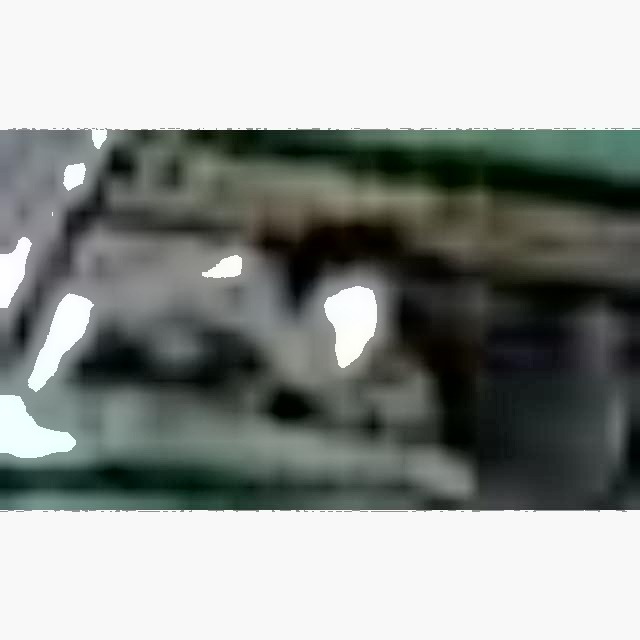tidak-pakai: (152, 237, 411, 435)
